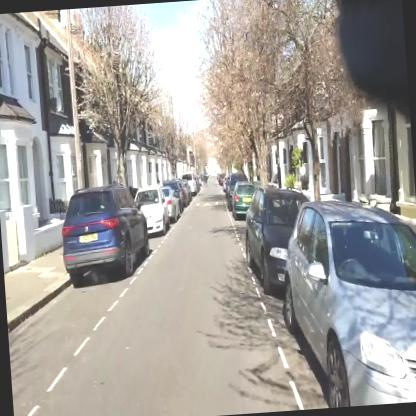car: (278, 194, 415, 411), (60, 182, 152, 288), (242, 182, 316, 298), (133, 186, 171, 238), (230, 179, 258, 221), (162, 184, 180, 224)
